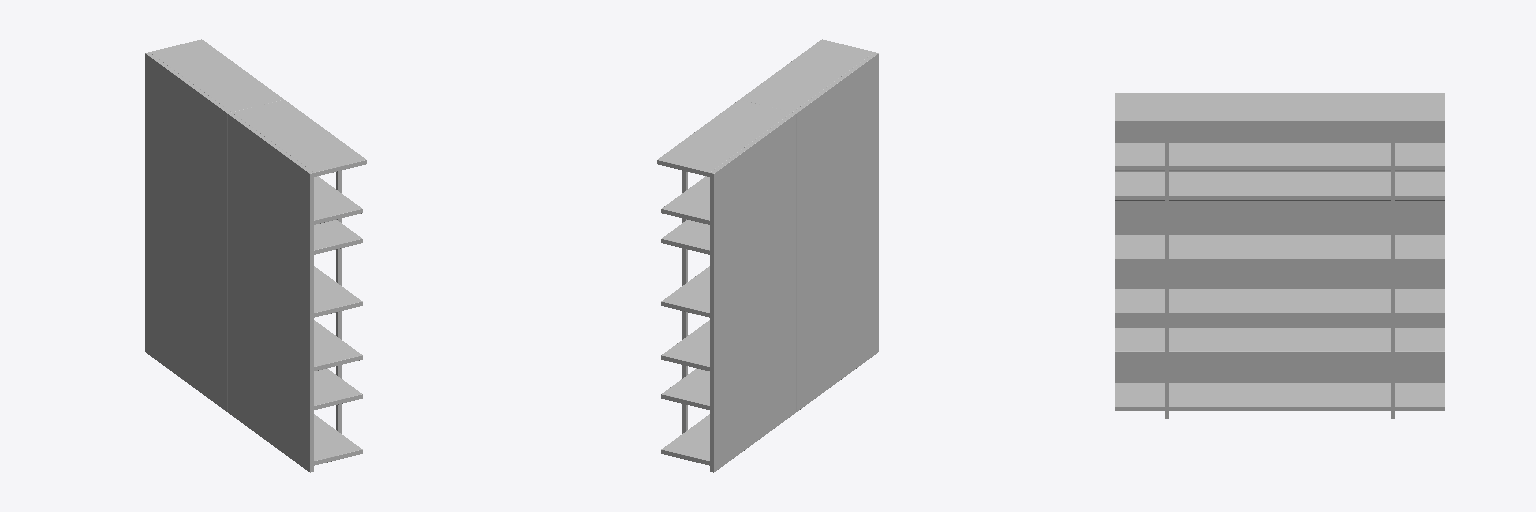
The model's file is bookcase.obj.
3 views of the same model, side by side, from view 1: azimuth 30°, elevation 25°; view 2: azimuth 150°, elevation 25°; view 3: azimuth 270°, elevation 25° (orthographic).
Parts seen in each view (by area): view 1: Box02, Box11, Box04, Box18, Box06, Box07, Box09, Box01, Box08, Box05, Box03; view 2: Box11, Box02, Box18, Box04, Box10, Box15, Box17, Box13, Box16, Box14, Box12; view 3: Box02, Box11, Box04, Box18, Box05, Box14, Box01, Box06, Box07, Box08, Box09, Box10 (+6 smaller).
Boxes of the visible parts, x1,y1,x2,y2 form: Box02: [227, 113, 313, 472]; Box11: [145, 52, 231, 411]; Box04: [232, 100, 366, 176]; Box18: [150, 39, 283, 111]; Box06: [314, 266, 362, 317]; Box07: [314, 320, 362, 370]; Box09: [314, 414, 362, 465]; Box01: [314, 176, 362, 224]; Box08: [314, 368, 362, 409]; Box05: [314, 220, 362, 254]; Box03: [336, 171, 341, 433]; Box11: [710, 113, 796, 472]; Box02: [792, 52, 878, 411]; Box18: [657, 100, 791, 176]; Box04: [740, 39, 873, 111]; Box10: [661, 266, 709, 317]; Box15: [661, 320, 709, 370]; Box17: [661, 414, 709, 465]; Box13: [661, 176, 709, 224]; Box16: [661, 368, 709, 409]; Box14: [661, 220, 709, 254]; Box12: [682, 171, 687, 433]; Box02: [1115, 93, 1279, 382]; Box11: [1280, 93, 1444, 382]; Box04: [1115, 95, 1279, 124]; Box18: [1280, 95, 1444, 124]; Box05: [1115, 172, 1279, 200]; Box14: [1280, 172, 1444, 200]; Box01: [1115, 143, 1279, 170]; Box06: [1115, 235, 1279, 262]; Box07: [1115, 289, 1279, 316]; Box08: [1115, 328, 1279, 355]; Box09: [1115, 383, 1279, 410]; Box10: [1280, 235, 1444, 262].
Size of the model in its own units: 400 by 2000 by 2000.